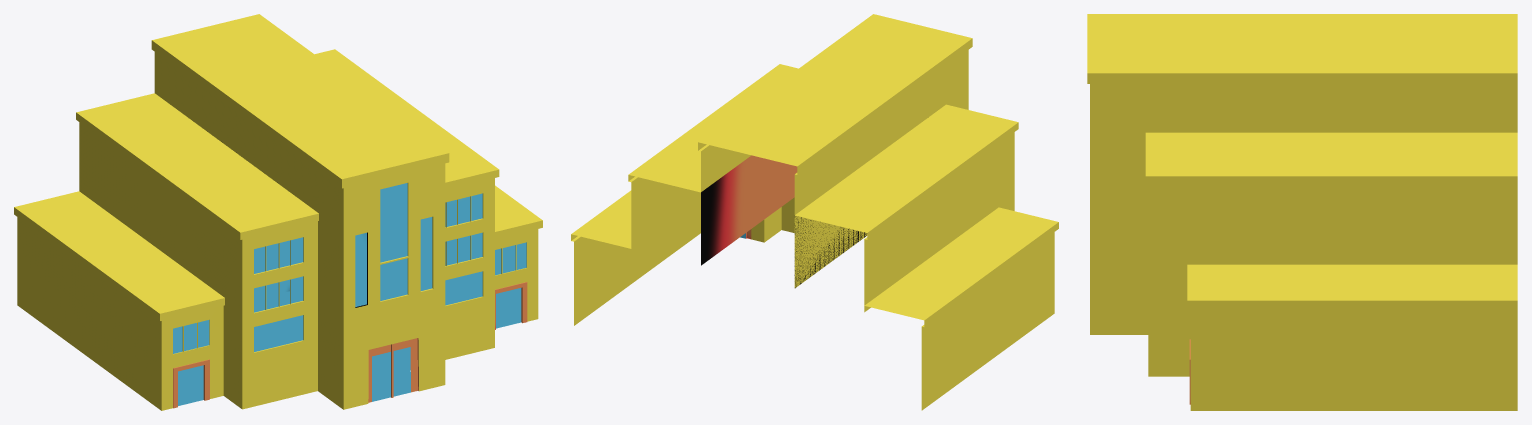
File: Escola.fbx
3 views of the same model, side by side, from view 1: azimuth 30°, elevation 25°; view 2: azimuth 150°, elevation 25°; view 3: azimuth 270°, elevation 25° (orthographic). The views are drawn at different scales.
Visible parts, largest first — view 1: Cube.001; view 2: Cube.001; view 3: Cube.001.
Part boxes in pixels (x1,y1,x2,y2): Cube.001: (14,14,542,410); Cube.001: (571,14,1058,410); Cube.001: (1087,14,1517,410).
Size of the model in its own units: 3200 by 1854 by 2750.
1 material, 1 textured.
